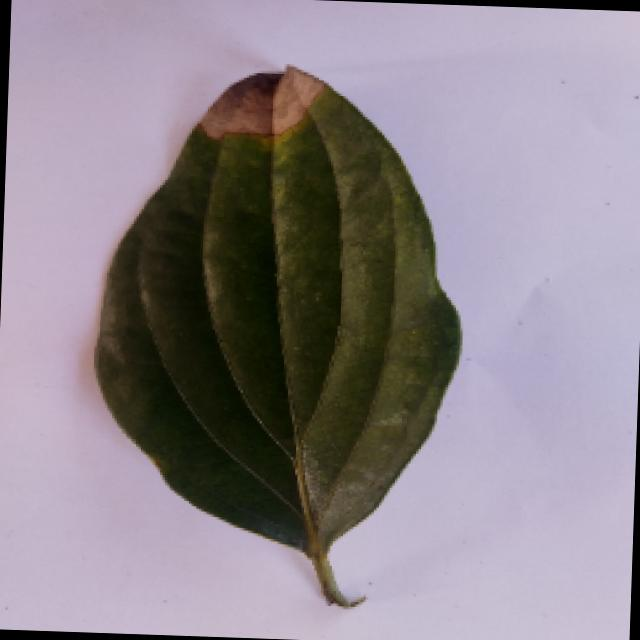footrot: (78, 57, 469, 602)
